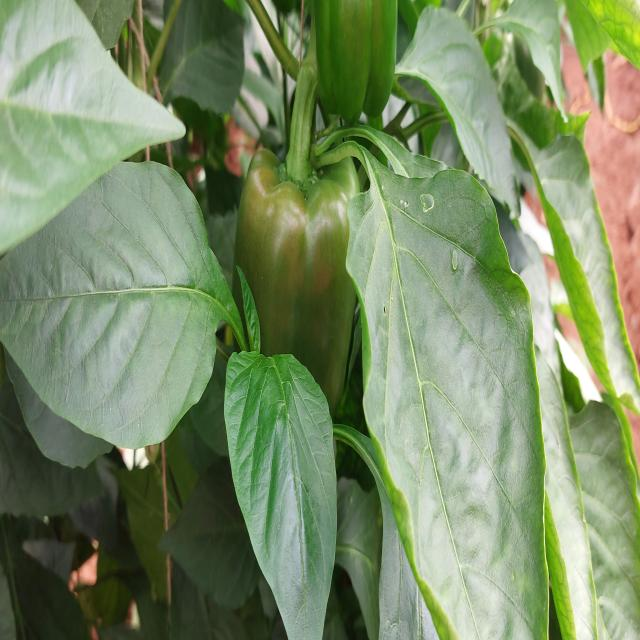Green--Not-ready-to-harvest: (238, 146, 361, 447), (315, 3, 405, 134)
